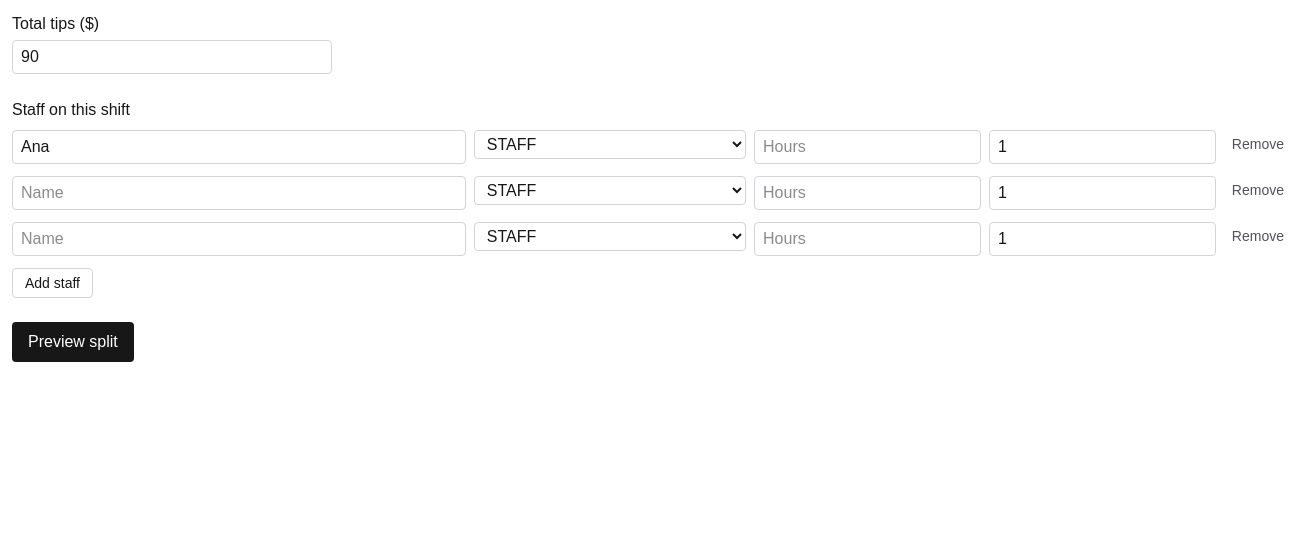
ShiftPreviewForm › adds and removes staff rows
The image size is (1304, 533).
Earlier steps of the test are not shown.
Type "5" into the field named "Staff 1 hours" at (868,147), box [754,130,981,164]
Type "Gone" into the field named "Staff 2 name" at (239,193), box [12,176,466,210]
Type "5" into the field named "Staff 2 hours" at (868,193), box [754,176,981,210]
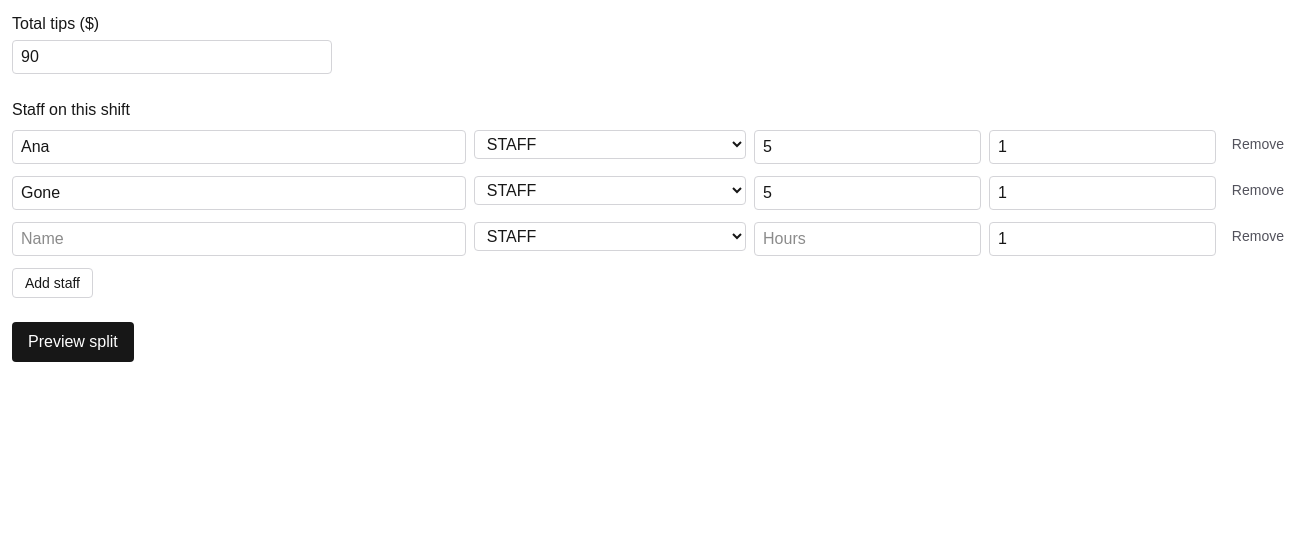
Type "Cy" into the field named "Staff 3 name" at (239,239), box [12,222,466,256]
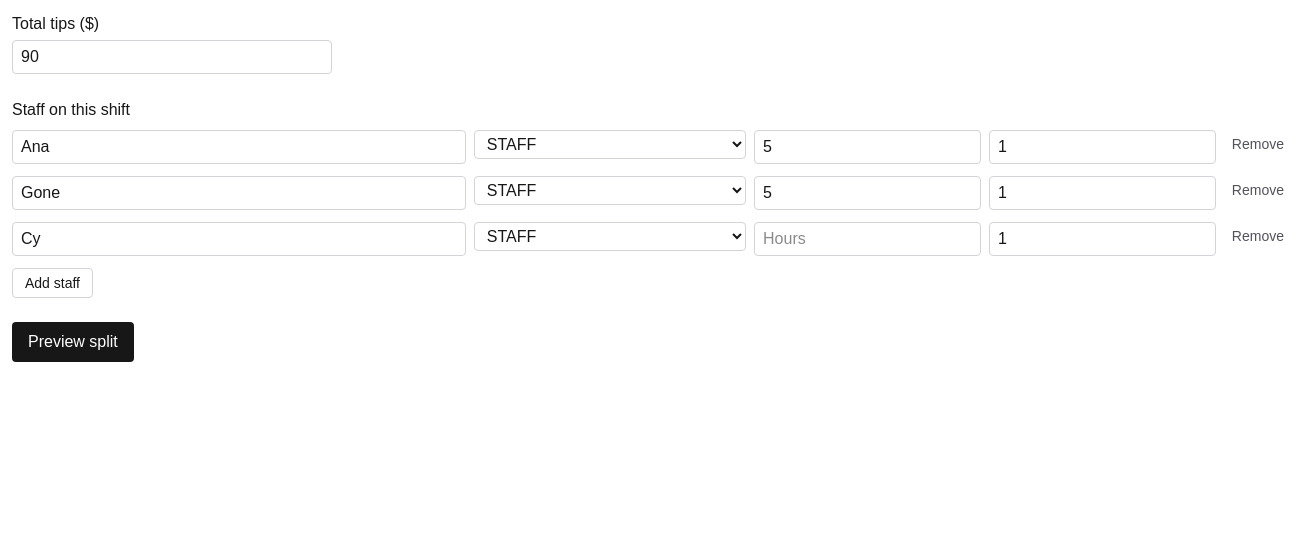
Type "5" into the field named "Staff 3 hours" at (868,239), box [754,222,981,256]
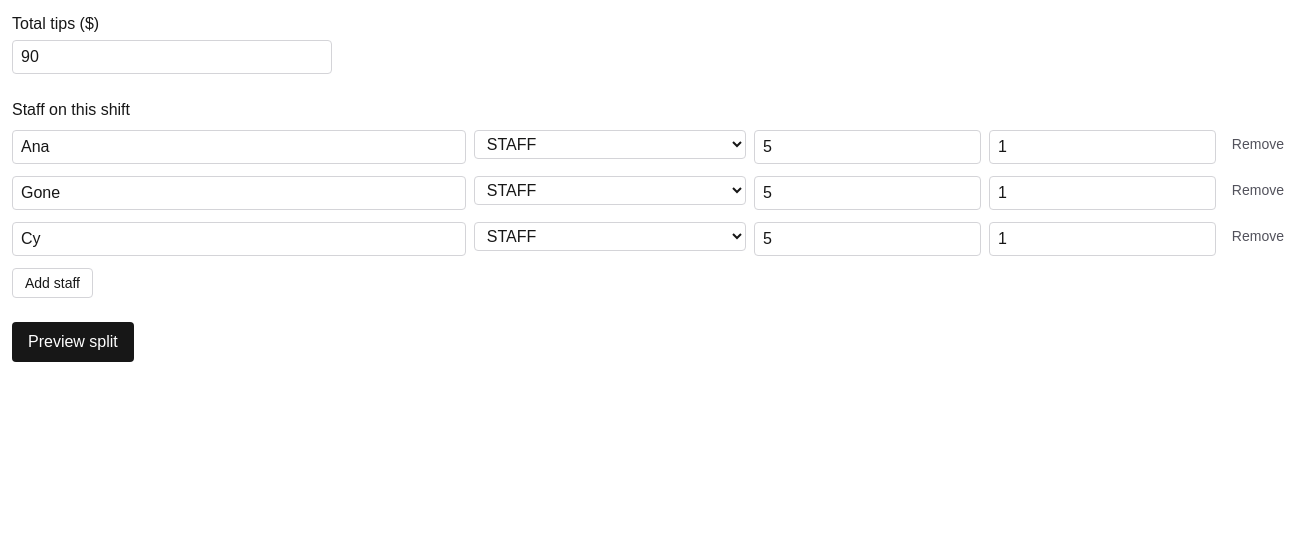
Replace the text in the field named "Staff 3 points" with "0.5" at (1102,239), box [989,222,1216,256]
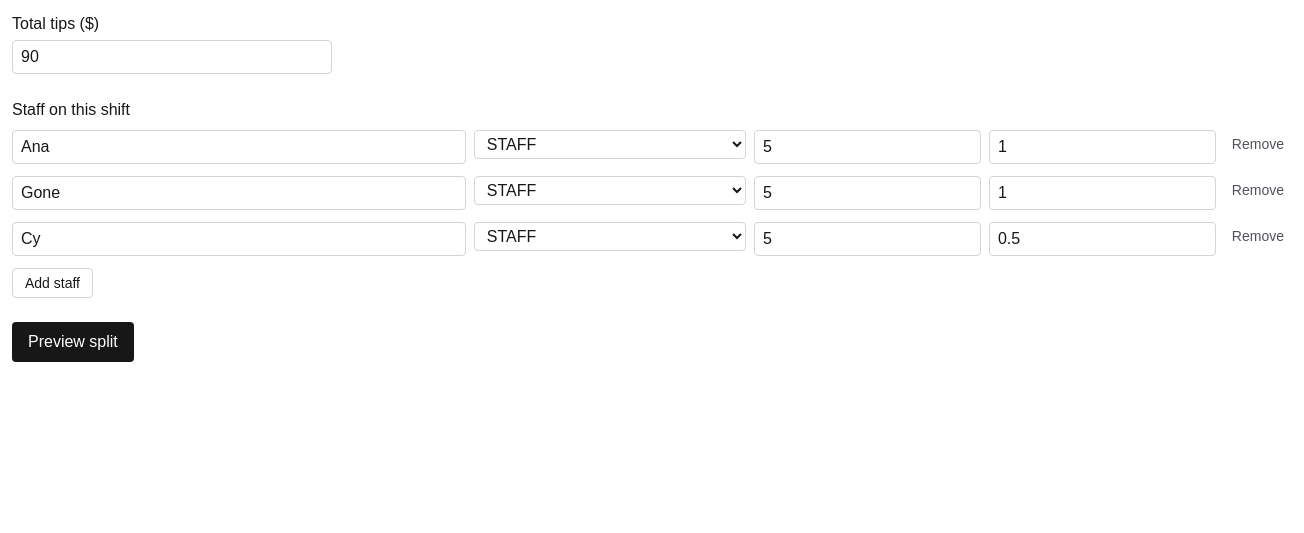
Click the button with aria-label "Remove staff 2" at (1258,190), box [1224,176,1292,204]
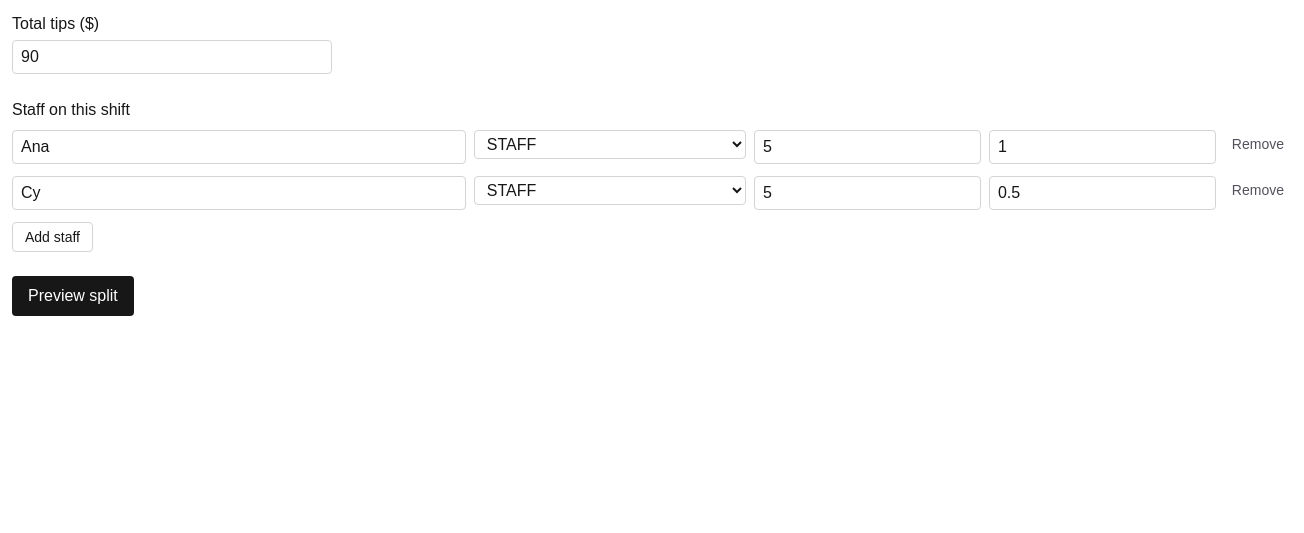
Click the button "Preview split" at (73,296), box [12,276,134,316]
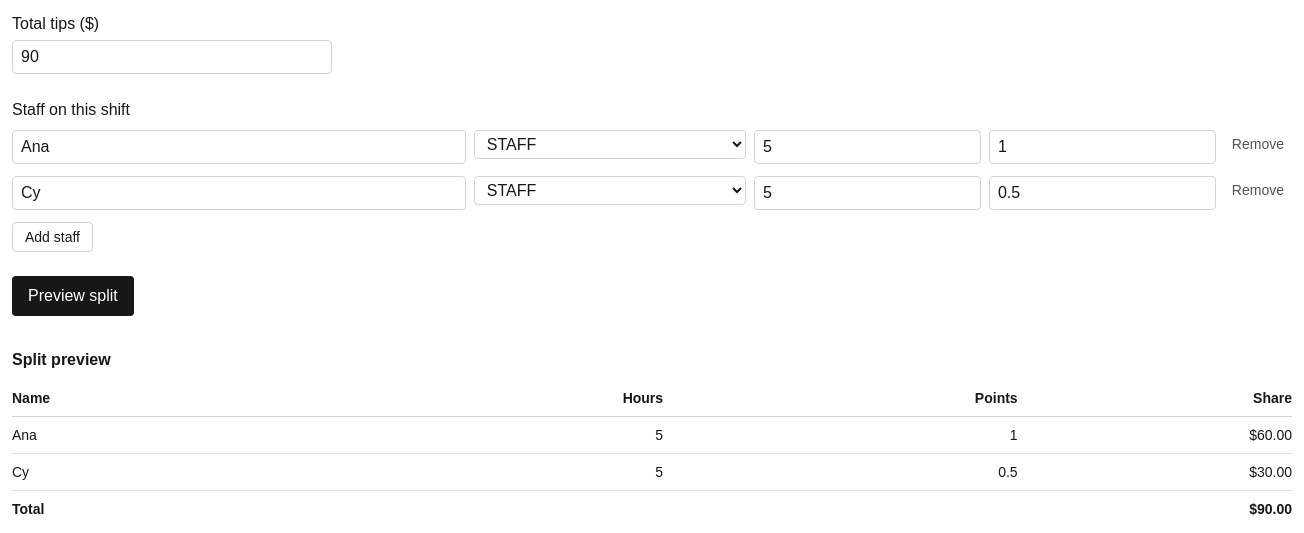
Expected: the text "Gone" is not shown
Result: the row "Ana 5 1 $60.00" is shown at [12,416,1292,454]
Result: the row "Cy 5 0.5 $30.00" is shown at [12,454,1292,490]
